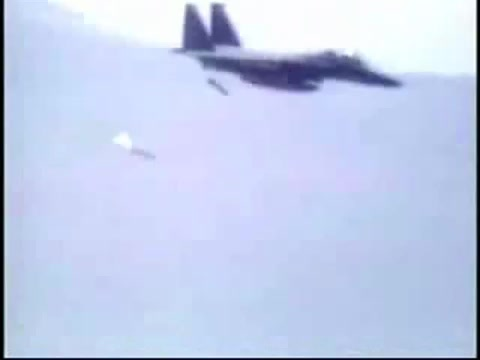aeroplane: (170, 4, 406, 97)
